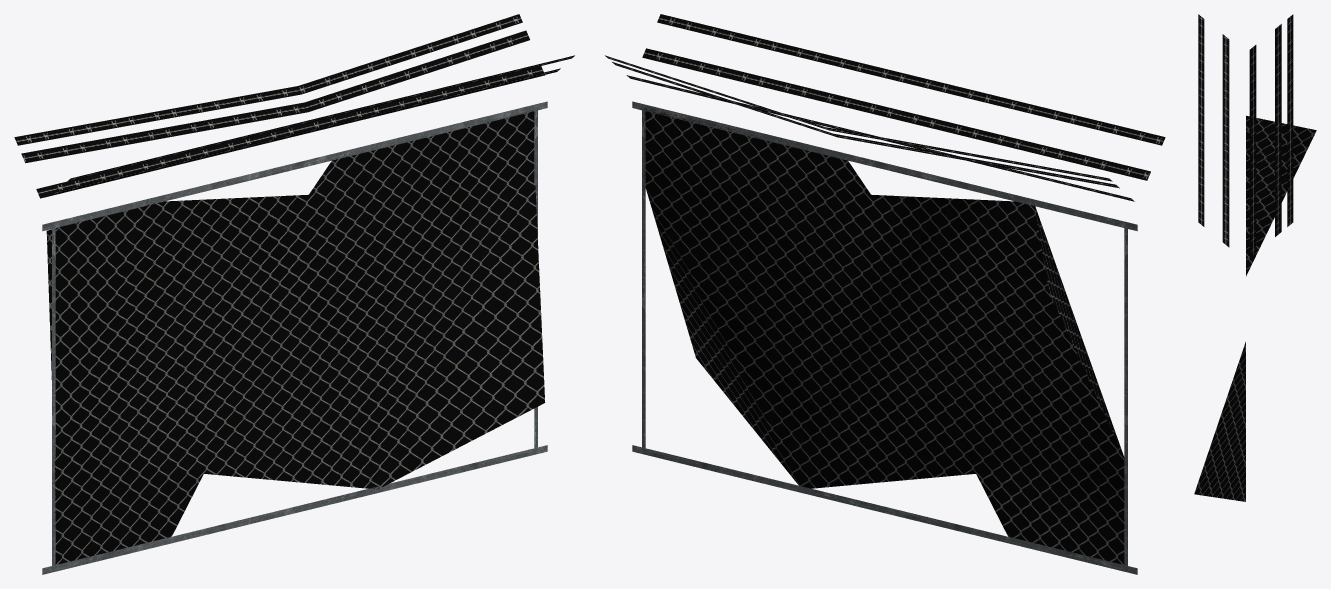
Rendered from Wire2_LOD1.fbx.
The picture shows the model from 3 angles, left to right: view 1: azimuth 30°, elevation 25°; view 2: azimuth 150°, elevation 25°; view 3: azimuth 270°, elevation 25°; orthographic projection. The views are drawn at different scales.
Parts seen in each view (by area): view 1: polySurface161; view 2: polySurface161; view 3: polySurface161.
Part boxes in pixels (box(x1,y1,x2,y2)): polySurface161: box(14, 14, 574, 574); polySurface161: box(605, 14, 1165, 574); polySurface161: box(1194, 14, 1316, 501).
Size of the model in its own units: 4 by 3.15 by 0.9949.
3 materials, 3 textured.
